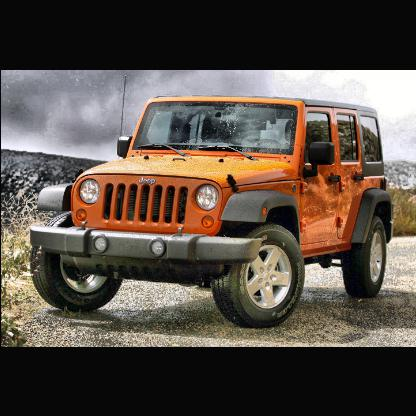Jeep Wrangler SUV 2012: (31, 95, 395, 326)
